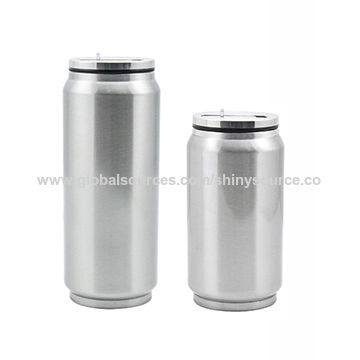beer can: (189, 109, 283, 307)
